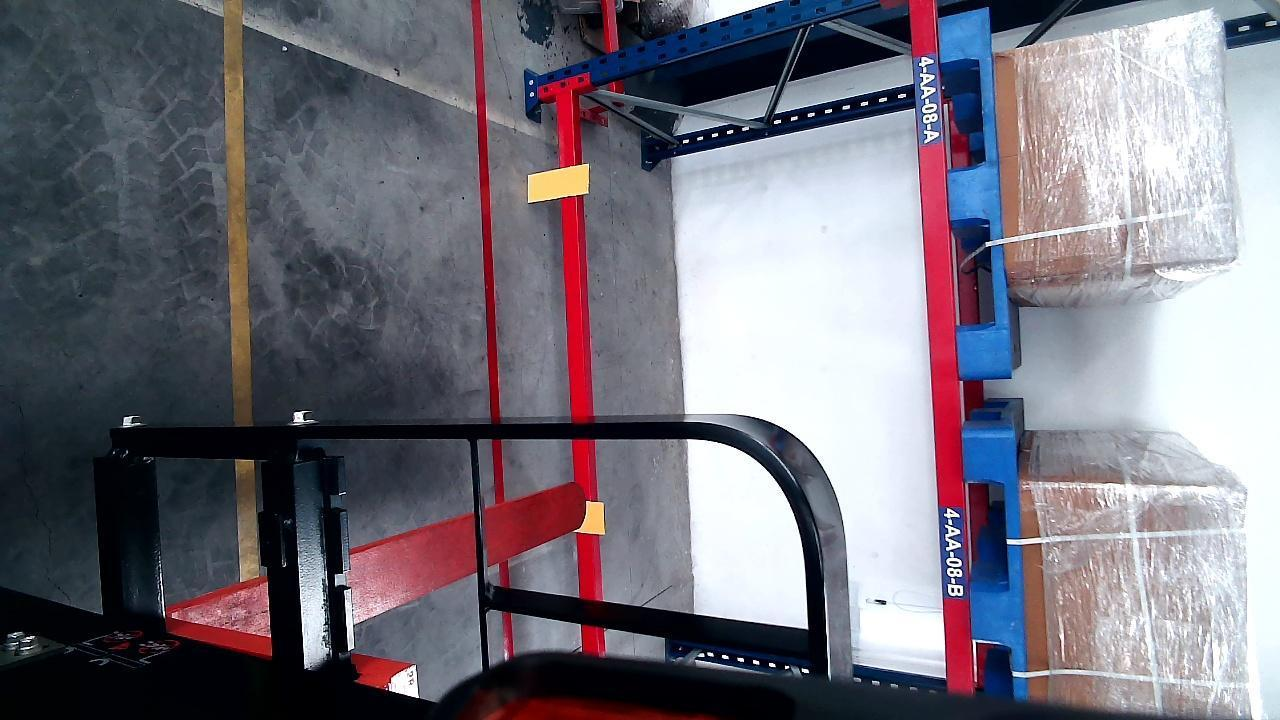h_rack: (915, 0, 971, 692), (555, 90, 609, 652)
orange_strip: (528, 165, 588, 201)
red_line: (471, 0, 517, 659)
small_pallet: (941, 4, 1009, 378), (967, 430, 1026, 693)
yellow_line: (226, 0, 262, 583)
